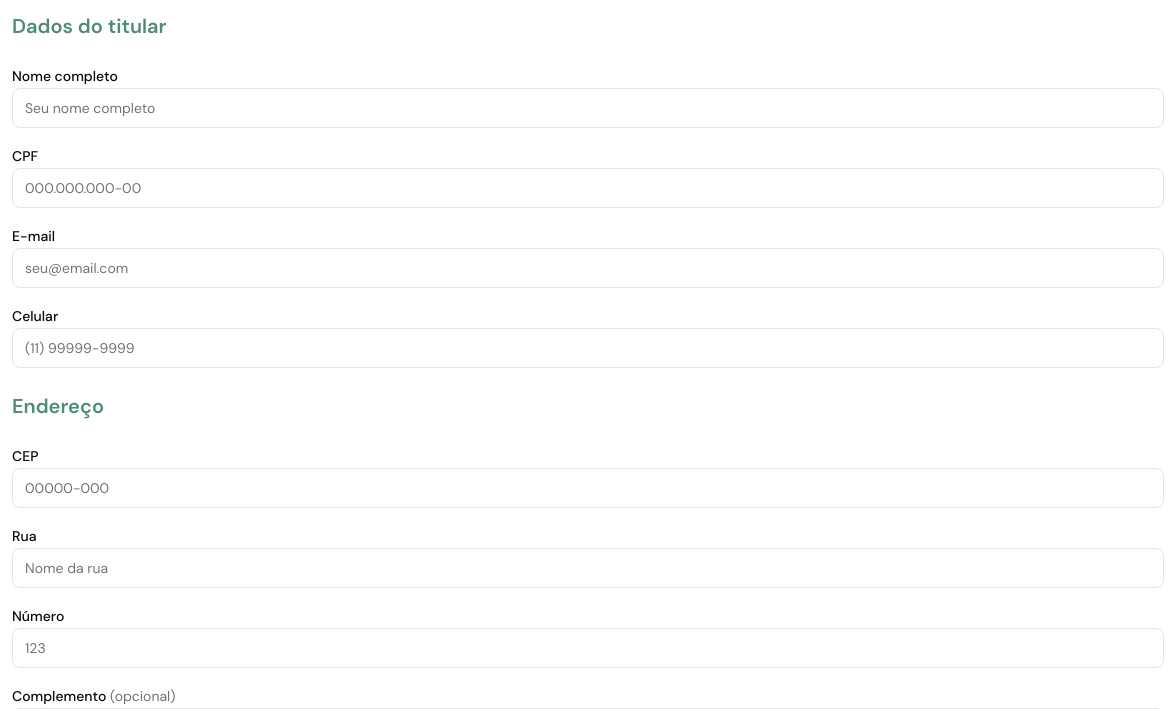
Test: StepCadastro › should show city-not-serviced error and clear address when CEP returns an out-of-area city
The image size is (1176, 709).
Step 1. Type "88010000" into the field with placeholder "00000-000" → (588, 488), box x1=12 y1=468 x2=1164 y2=508
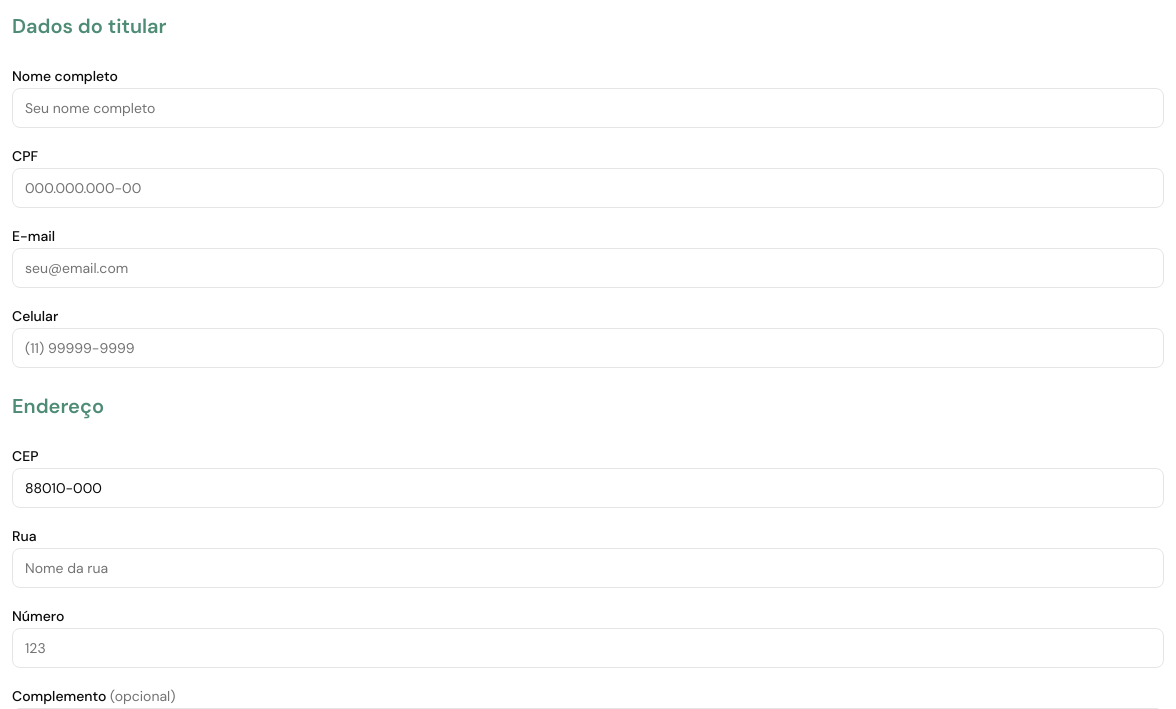
Step 2. Leave the field with placeholder "00000-000", box x1=12 y1=468 x2=1164 y2=508
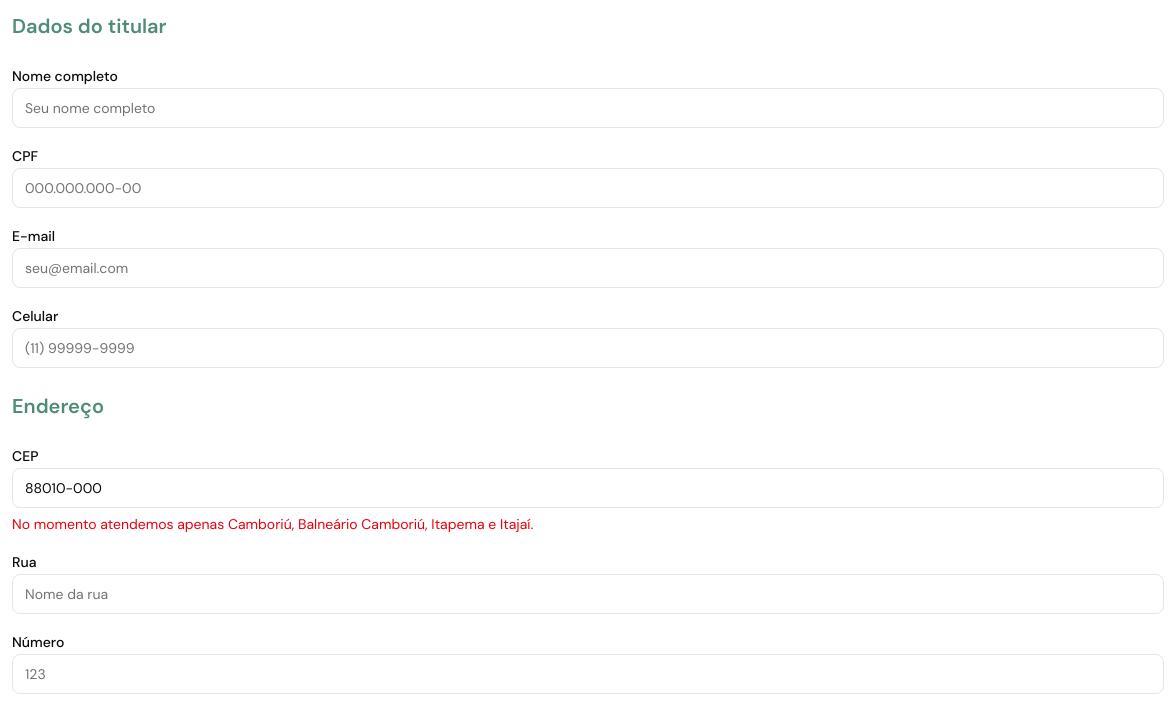
Check: the text "No momento atendemos apenas Camboriú, Balneário Camboriú, Itapema e Itajaí." is shown, box x1=12 y1=515 x2=533 y2=533
